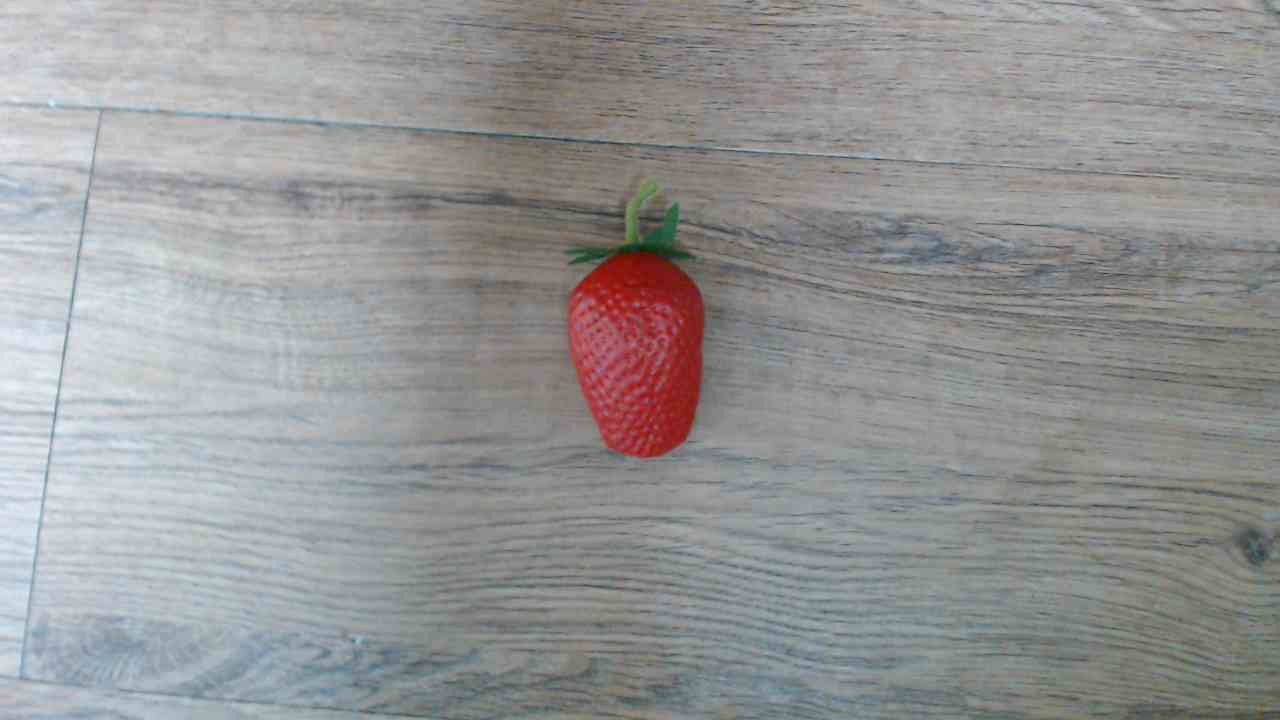strawberry: (551, 231, 727, 471)
